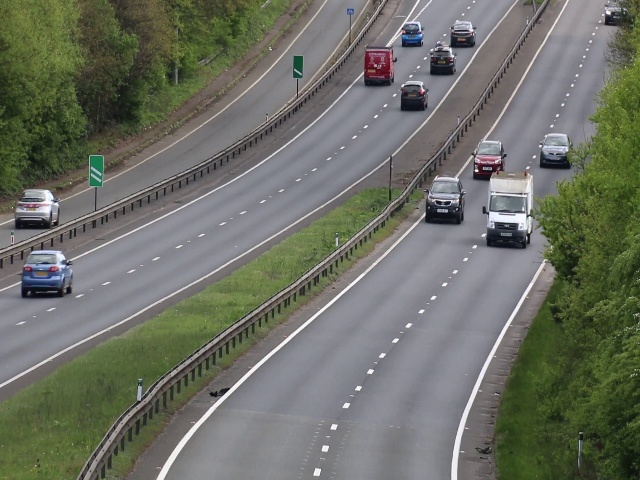car: (484, 171, 532, 249), (19, 248, 73, 299), (427, 175, 465, 223), (15, 185, 59, 226), (363, 42, 396, 86), (540, 130, 573, 169), (473, 137, 504, 178), (401, 81, 428, 112), (429, 46, 456, 74), (603, 1, 631, 26), (401, 19, 425, 47), (449, 19, 475, 44)
